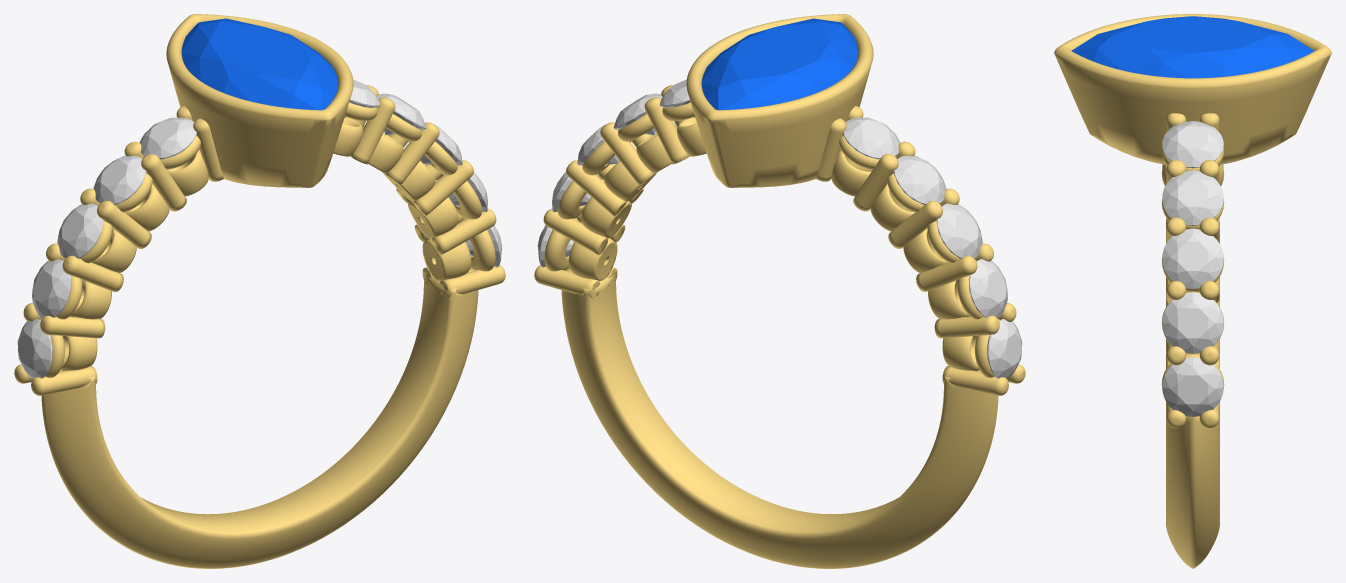
Rendered from bluesapphire-marquise-yellowgold-bezelset-knifeedge-11stone.glb.
The picture shows the model from 3 angles, left to right: view 1: azimuth 30°, elevation 25°; view 2: azimuth 150°, elevation 25°; view 3: azimuth 270°, elevation 25°; orthographic projection.
Visible parts, largest first — view 1: metal.002, stone.002, dia.024, dia.025, dia.023, dia.026, dia.002, dia.030; view 2: metal.002, stone.002, dia.024, dia.025, dia.023, dia.026, dia.002, dia.030; view 3: metal.002, stone.002, dia.028, dia.029, dia.027, dia.030, dia.031.
Part boxes in pixels (bbox=[...]): metal.002: bbox=[14, 14, 505, 568]; stone.002: bbox=[181, 18, 338, 110]; dia.024: bbox=[57, 203, 103, 258]; dia.025: bbox=[93, 156, 146, 204]; dia.023: bbox=[32, 259, 70, 318]; dia.026: bbox=[139, 117, 196, 159]; dia.002: bbox=[17, 319, 52, 378]; dia.030: bbox=[377, 93, 426, 135]; metal.002: bbox=[534, 14, 1025, 568]; stone.002: bbox=[701, 18, 858, 110]; dia.024: bbox=[936, 203, 982, 258]; dia.025: bbox=[893, 156, 946, 204]; dia.023: bbox=[968, 259, 1007, 318]; dia.026: bbox=[843, 117, 900, 159]; dia.002: bbox=[987, 319, 1022, 378]; dia.030: bbox=[613, 93, 662, 135]; metal.002: bbox=[1054, 14, 1331, 568]; stone.002: bbox=[1071, 16, 1314, 78]; dia.028: bbox=[1162, 292, 1223, 353]; dia.029: bbox=[1162, 228, 1223, 288]; dia.027: bbox=[1162, 357, 1223, 416]; dia.030: bbox=[1162, 170, 1223, 225]; dia.031: bbox=[1162, 121, 1223, 168].
Size of the model in its own units: 22.1 by 22.93 by 11.31.
